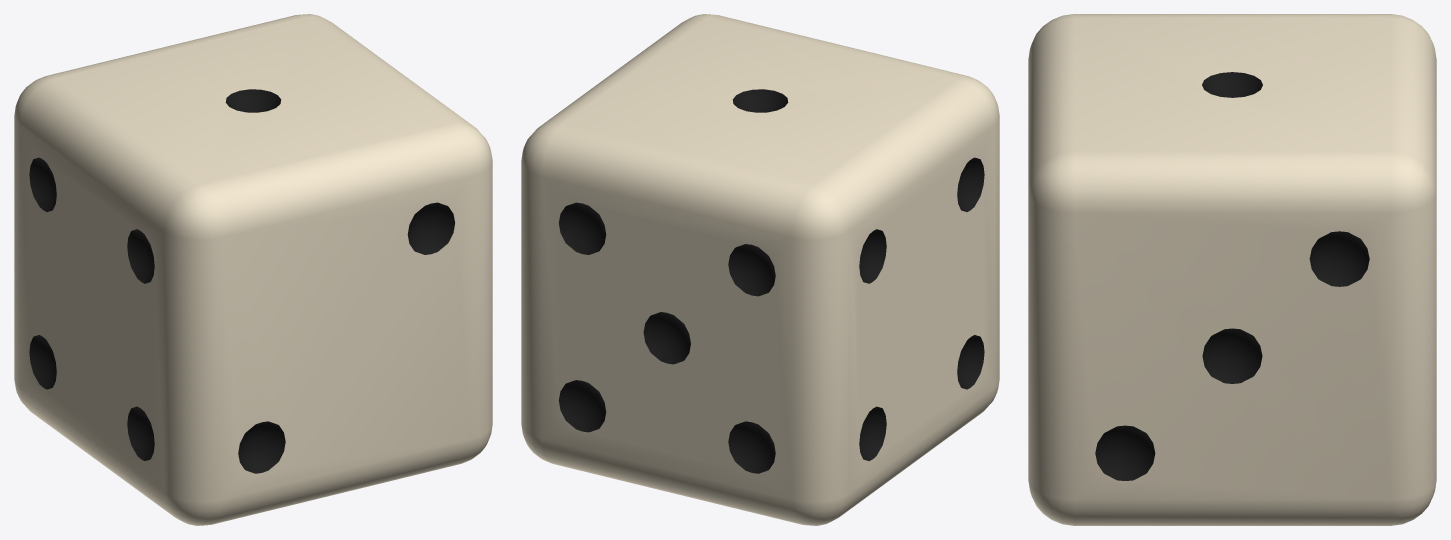
File: dice.glb
The picture shows the model from 3 angles, left to right: view 1: azimuth 30°, elevation 25°; view 2: azimuth 150°, elevation 25°; view 3: azimuth 270°, elevation 25°; orthographic projection. The views are drawn at different scales.
Parts seen in each view (by area): view 1: dice; view 2: dice; view 3: dice.
Boxes of the visible parts, x1,y1,x2,y2 form: dice: (14,14,492,525); dice: (521,14,999,525); dice: (1028,14,1436,525).
Bounding box in the file's own units: 0.16 × 0.16 × 0.16.
